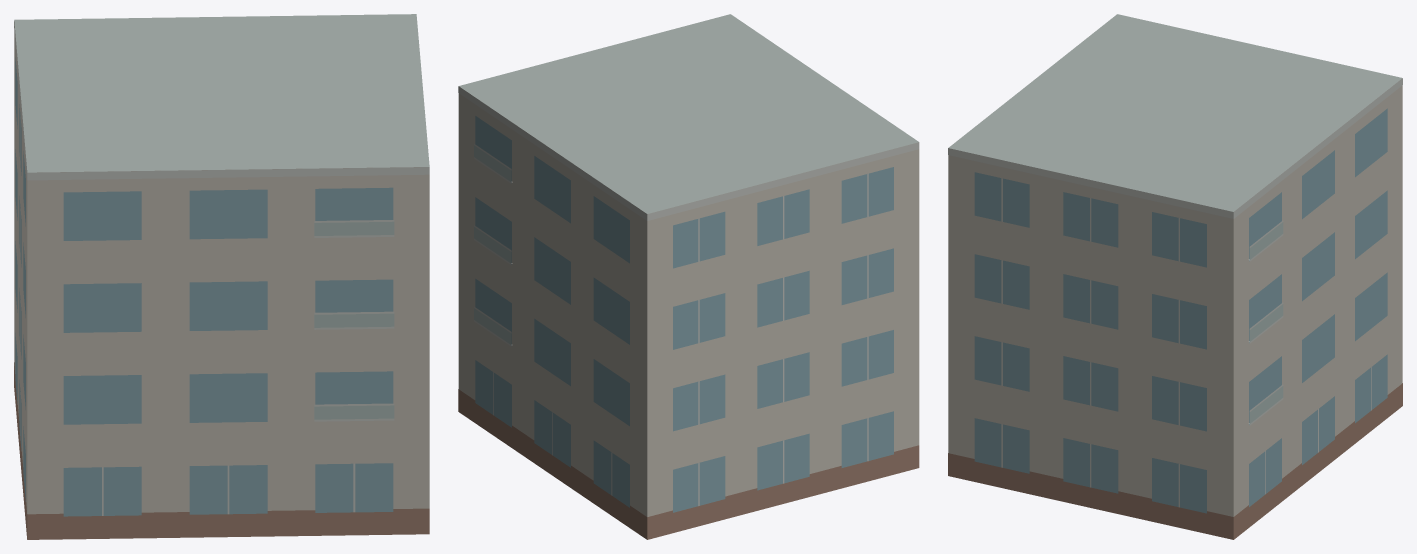
File: survey-upis-32679416.glb
3 renders of one model, left to right at view 1: azimuth 30°, elevation 25°; view 2: azimuth 150°, elevation 25°; view 3: azimuth 270°, elevation 25°, orthographic. The views are drawn at different scales.
Visible parts, largest first — view 1: survey-upis-32679416.tmp; view 2: survey-upis-32679416.tmp; view 3: survey-upis-32679416.tmp.
Part boxes in pixels (x1,y1,x2,y2): survey-upis-32679416.tmp: [14, 14, 429, 539]; survey-upis-32679416.tmp: [458, 14, 919, 539]; survey-upis-32679416.tmp: [948, 14, 1402, 539].
Size of the model in its own units: 14.77 by 11.4 by 14.34.
